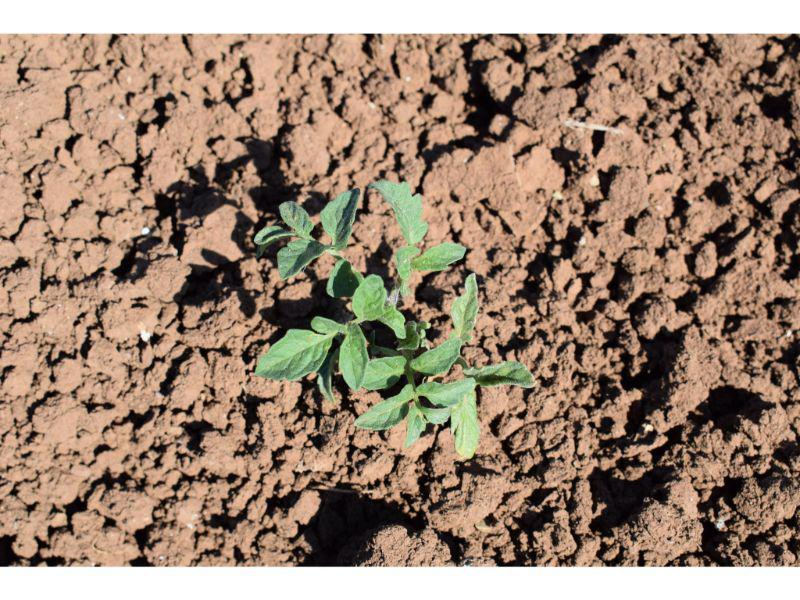tomato: (255, 177, 539, 458)
